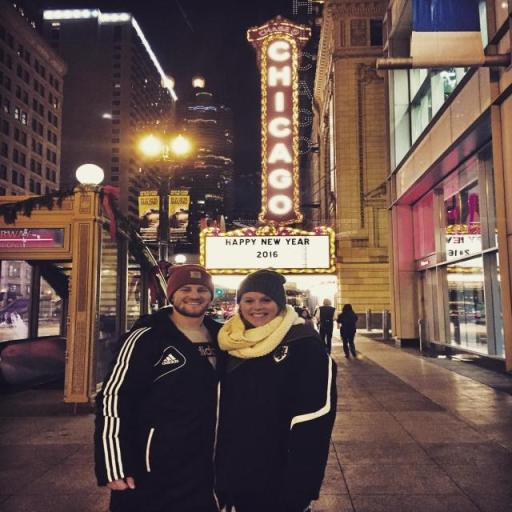Adidas: (160, 352, 180, 368)
